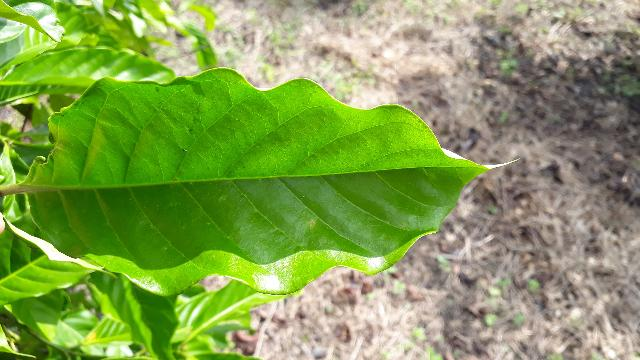healthy: (18, 69, 520, 295)
